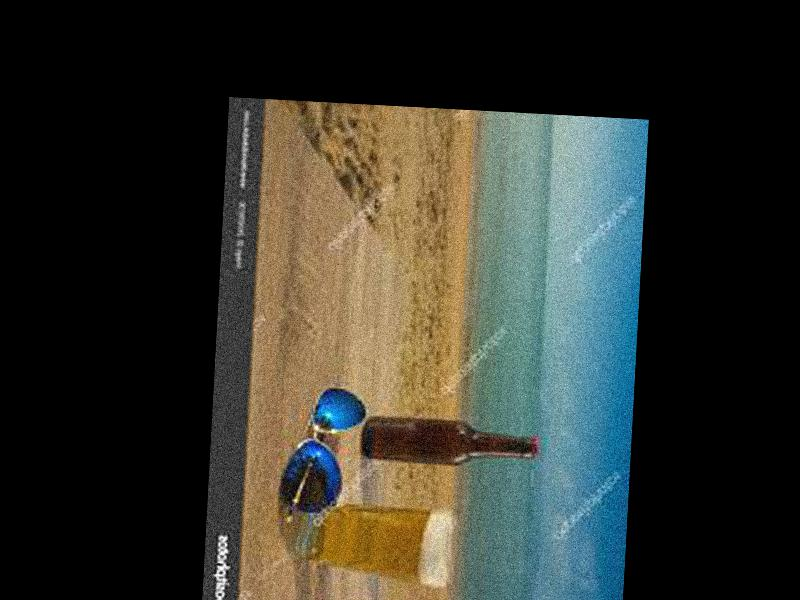Beer: (362, 415, 539, 469)
